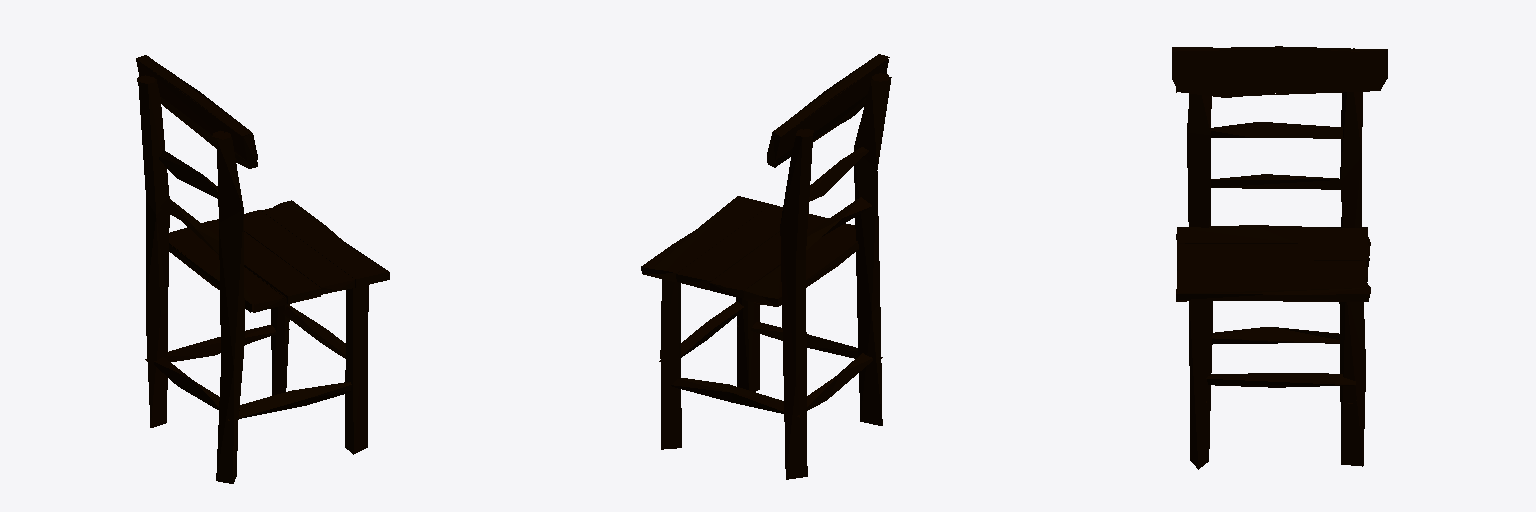
File: OldChair.obj
3 views of the same model, side by side, from view 1: azimuth 30°, elevation 25°; view 2: azimuth 150°, elevation 25°; view 3: azimuth 270°, elevation 25° (orthographic).
Visible parts, largest first — view 1: Cylinder.003; view 2: Cylinder.003; view 3: Cylinder.003.
Part boxes in pixels (bbox=[...]): Cylinder.003: bbox=[136, 55, 389, 483]; Cylinder.003: bbox=[641, 54, 891, 479]; Cylinder.003: bbox=[1172, 46, 1387, 469].
Bounding box in the file's own units: 0.5786 × 1.2 × 0.6571.